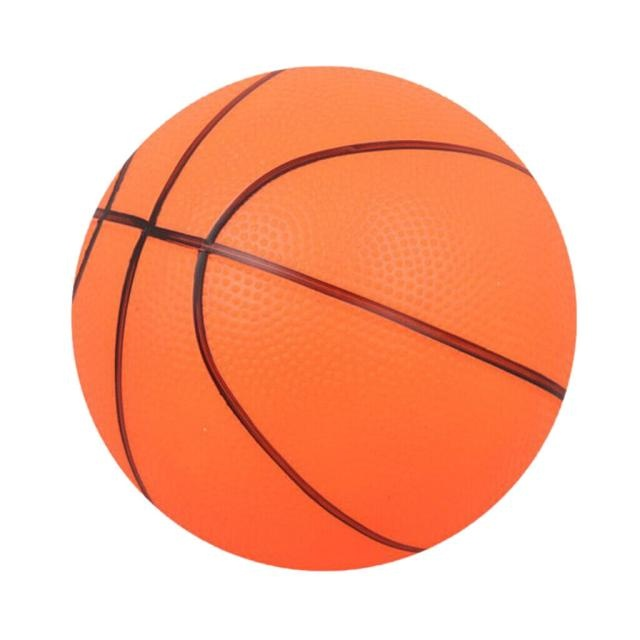agrume: (74, 48, 582, 571)
